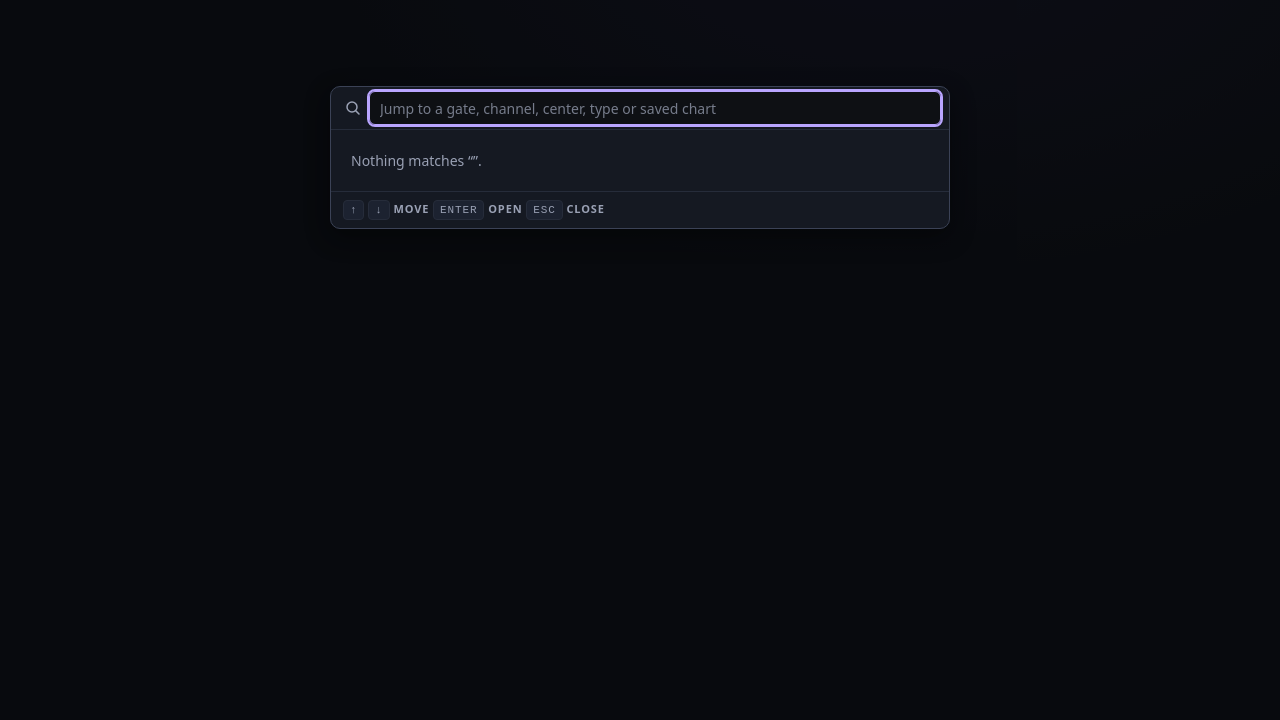
Test: CommandPalette › filters as you type and goes to the selected result on Enter
Later steps or results of the test are not shown.
In the dropdown with placeholder "Jump to a gate, channel, center, type or saved chart": point(655, 108) [369,91,941,125], type "now"
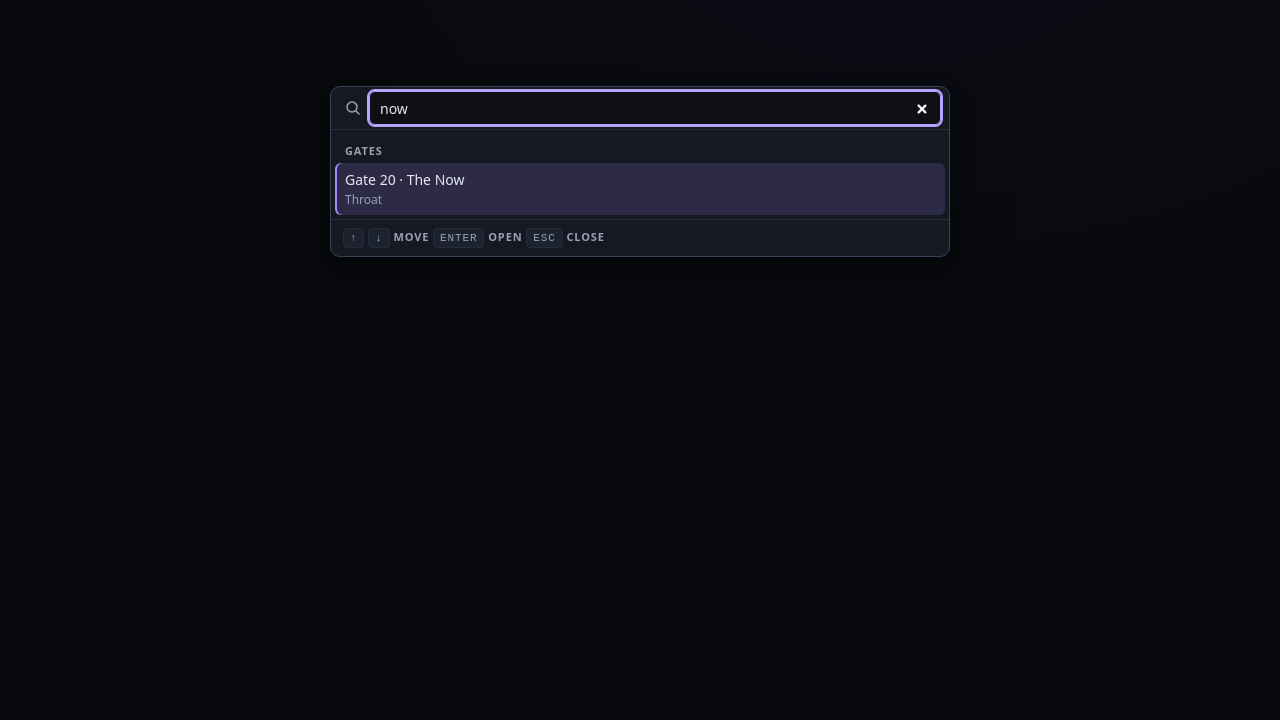
Expected: the number of options is 1, [335,163,945,215]
Expected: the option "Gate 20 · The Now Throat" is shown, [335,163,945,215]
